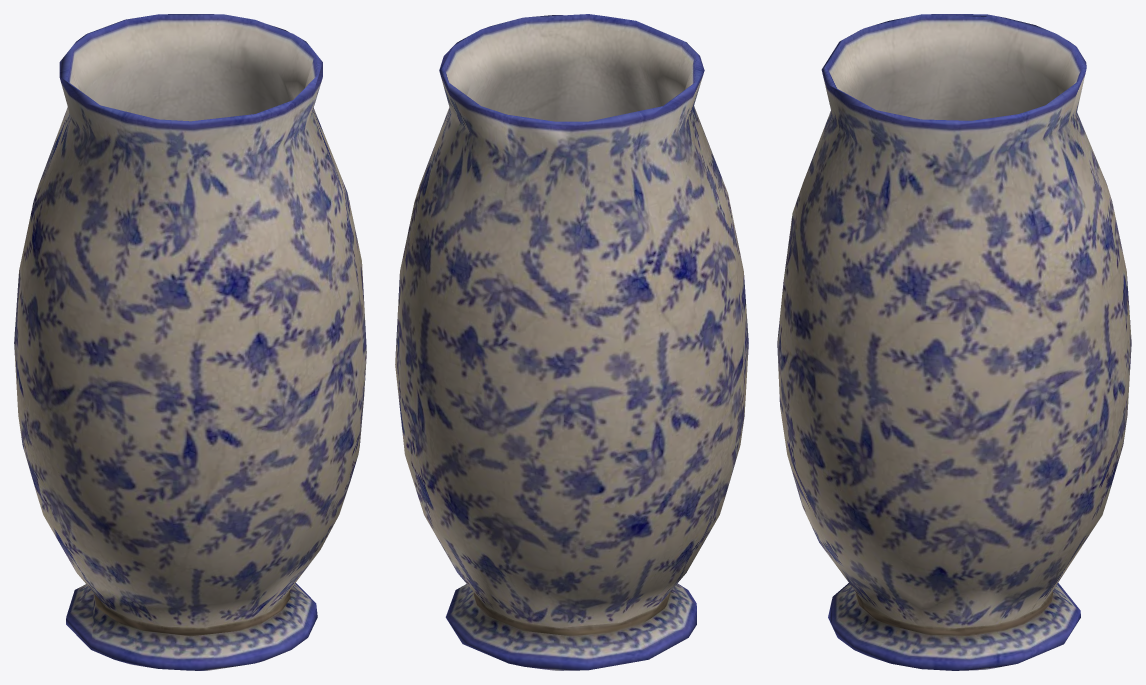
3 views of the same model, side by side, from view 1: azimuth 30°, elevation 25°; view 2: azimuth 150°, elevation 25°; view 3: azimuth 270°, elevation 25° (orthographic).
Visible parts, largest first — view 1: antique_ceramic_vase_01; view 2: antique_ceramic_vase_01; view 3: antique_ceramic_vase_01.
Part boxes in pixels (bbox=[...]): antique_ceramic_vase_01: bbox=[14, 14, 366, 670]; antique_ceramic_vase_01: bbox=[395, 14, 748, 670]; antique_ceramic_vase_01: bbox=[777, 14, 1131, 670].
Bounding box in the file's own units: 0.2534 × 0.4396 × 0.255.
1 material, 1 textured.
